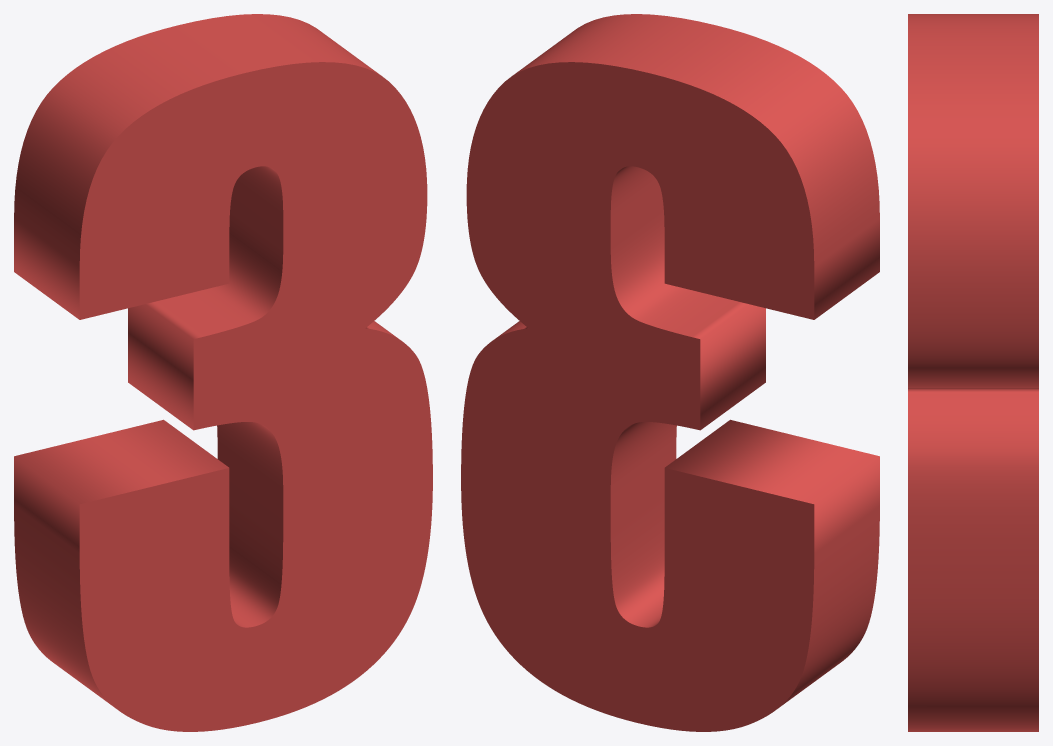
3 views of the same model, side by side, from view 1: azimuth 30°, elevation 25°; view 2: azimuth 150°, elevation 25°; view 3: azimuth 270°, elevation 25° (orthographic).
Parts seen in each view (by area): view 1: テキスト; view 2: テキスト; view 3: テキスト.
Boxes of the visible parts, <box> form: テキスト: <box>14,14,432,731</box>; テキスト: <box>461,14,879,731</box>; テキスト: <box>908,14,1038,731</box>.
Bounding box in the file's own units: 0.3105 × 0.5484 × 0.1.
